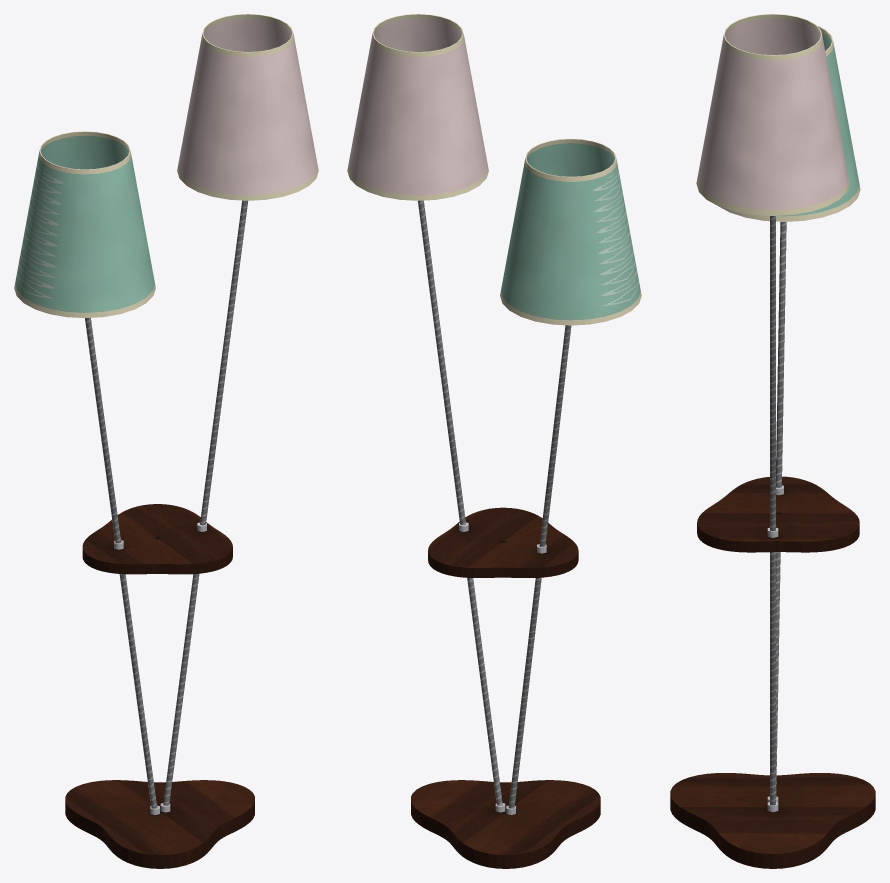
The model's file is floor_lamp_duo_web.glb.
3 renders of one model, left to right at view 1: azimuth 30°, elevation 25°; view 2: azimuth 150°, elevation 25°; view 3: azimuth 270°, elevation 25°, orthographic. The views are drawn at different scales.
Visible parts, largest first — view 1: Glass_Shade_1, Glass_Shade_2, FloorLampDuo_Body, Chrome_Rods; view 2: Glass_Shade_1, Glass_Shade_2, FloorLampDuo_Body, Chrome_Rods; view 3: Glass_Shade_1, FloorLampDuo_Body, Chrome_Rods, Glass_Shade_2.
Part boxes in pixels (x1,y1,x2,y2): Glass_Shade_1: [177, 14, 318, 200]; Glass_Shade_2: [14, 131, 155, 318]; FloorLampDuo_Body: [65, 504, 254, 868]; Chrome_Rods: [85, 200, 248, 814]; Glass_Shade_1: [347, 14, 488, 200]; Glass_Shade_2: [500, 138, 641, 325]; FloorLampDuo_Body: [411, 507, 600, 868]; Chrome_Rods: [418, 200, 571, 814]; Glass_Shade_1: [696, 14, 849, 215]; FloorLampDuo_Body: [670, 476, 875, 868]; Chrome_Rods: [767, 216, 786, 811]; Glass_Shade_2: [720, 25, 860, 221].
Size of the model in its own units: 0.64 by 1.68 by 0.3749.
5 materials, 5 textured.
